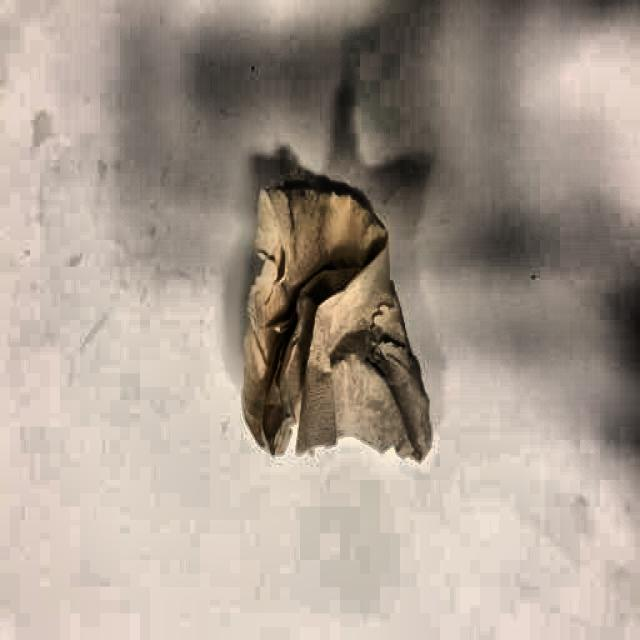trash: (240, 176, 436, 469)
